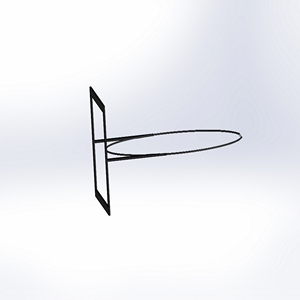circle: (88, 85, 243, 216)
